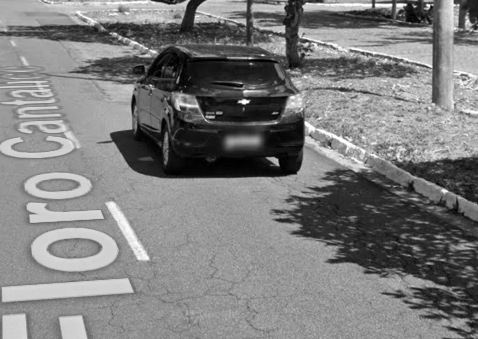car: (124, 36, 311, 176)
